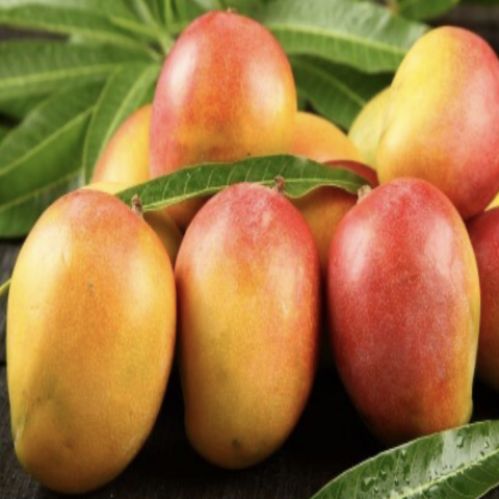mango: (0, 165, 186, 485), (316, 148, 493, 471), (168, 188, 337, 473), (136, 0, 315, 225)
